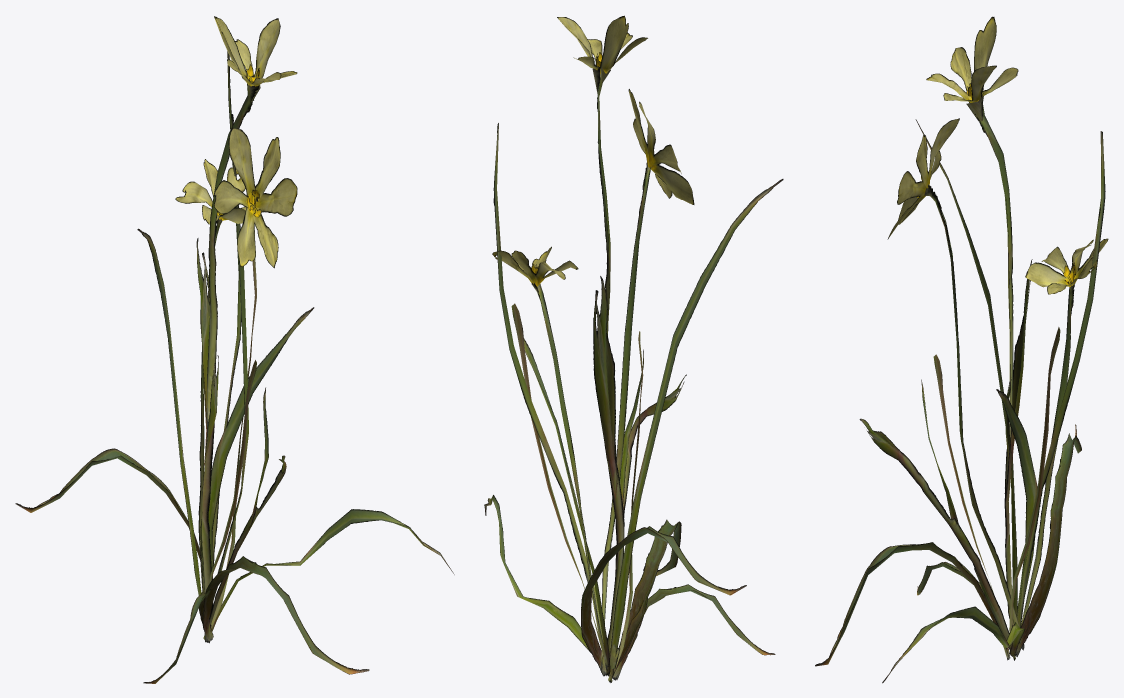
The model's file is flower_empodium_c.fbx.
The picture shows the model from 3 angles, left to right: view 1: azimuth 30°, elevation 25°; view 2: azimuth 150°, elevation 25°; view 3: azimuth 270°, elevation 25°; orthographic projection. The views are drawn at different scales.
Parts seen in each view (by area): view 1: flower_empodium_c; view 2: flower_empodium_c; view 3: flower_empodium_c.
Boxes of the visible parts, box(x1,y1,x2,y2) form: flower_empodium_c: box(15, 16, 454, 683); flower_empodium_c: box(484, 15, 783, 682); flower_empodium_c: box(815, 16, 1108, 683).
Bounding box in the file's own units: 0.2169 × 0.38 × 0.1579.
Materials: 1 (1 with a texture image).
